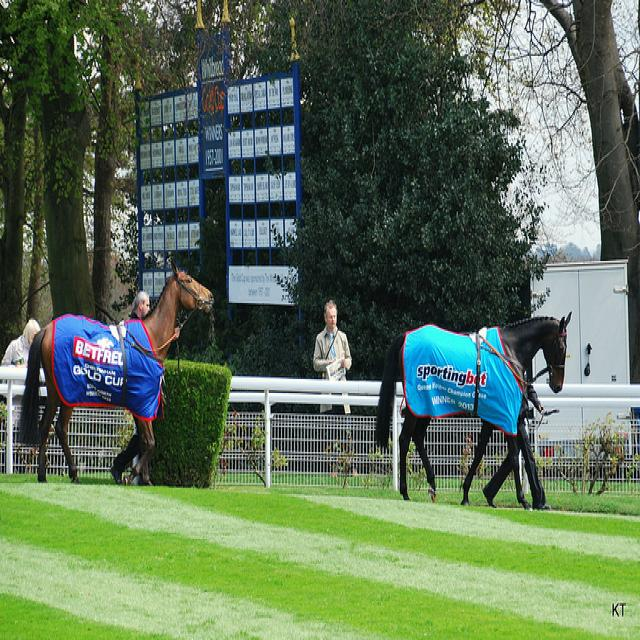Vehicle: (530, 262, 634, 463)
